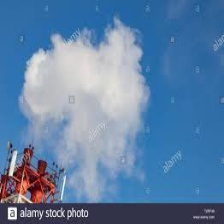smoke: (23, 44, 144, 167)
